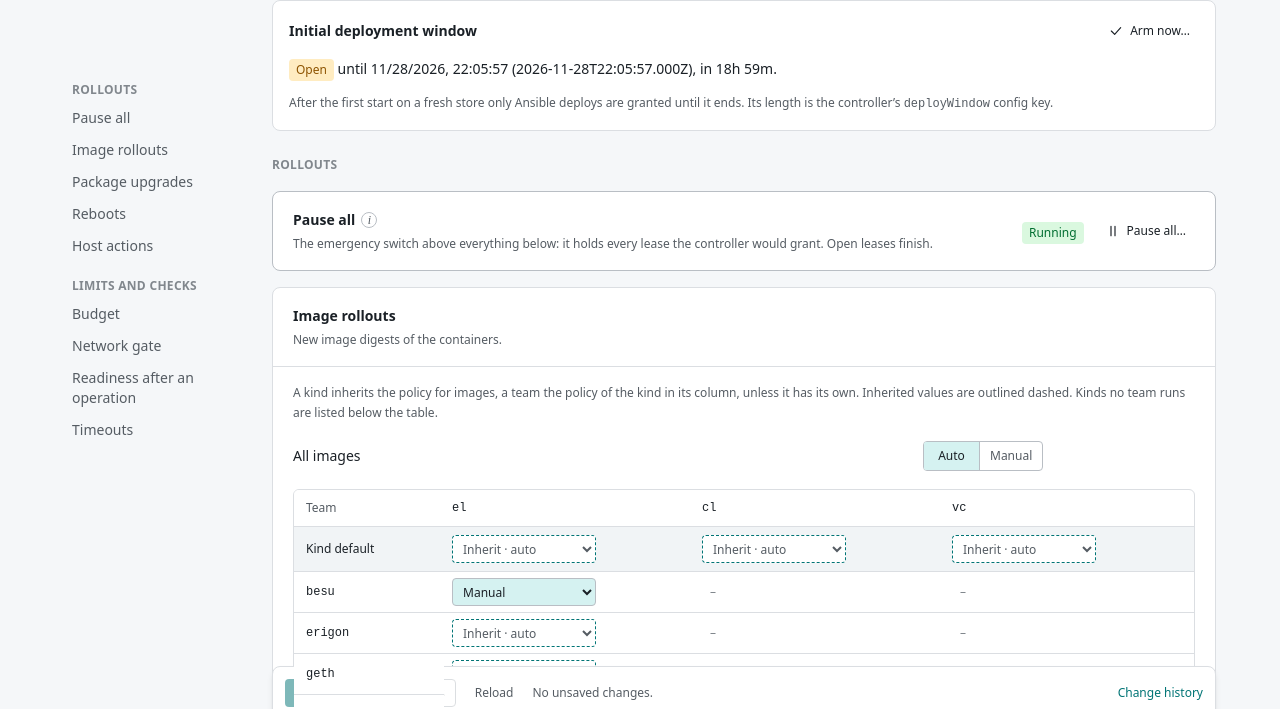
Scenario: SettingsTab › states the deployment window and arms it while it is open; its length is no setting
Expected: the element named "Deployment window state" shows "Open until", [289,59,777,81]
Click the button "Arm now…" at (1149, 31), box [1099,17,1199,45]
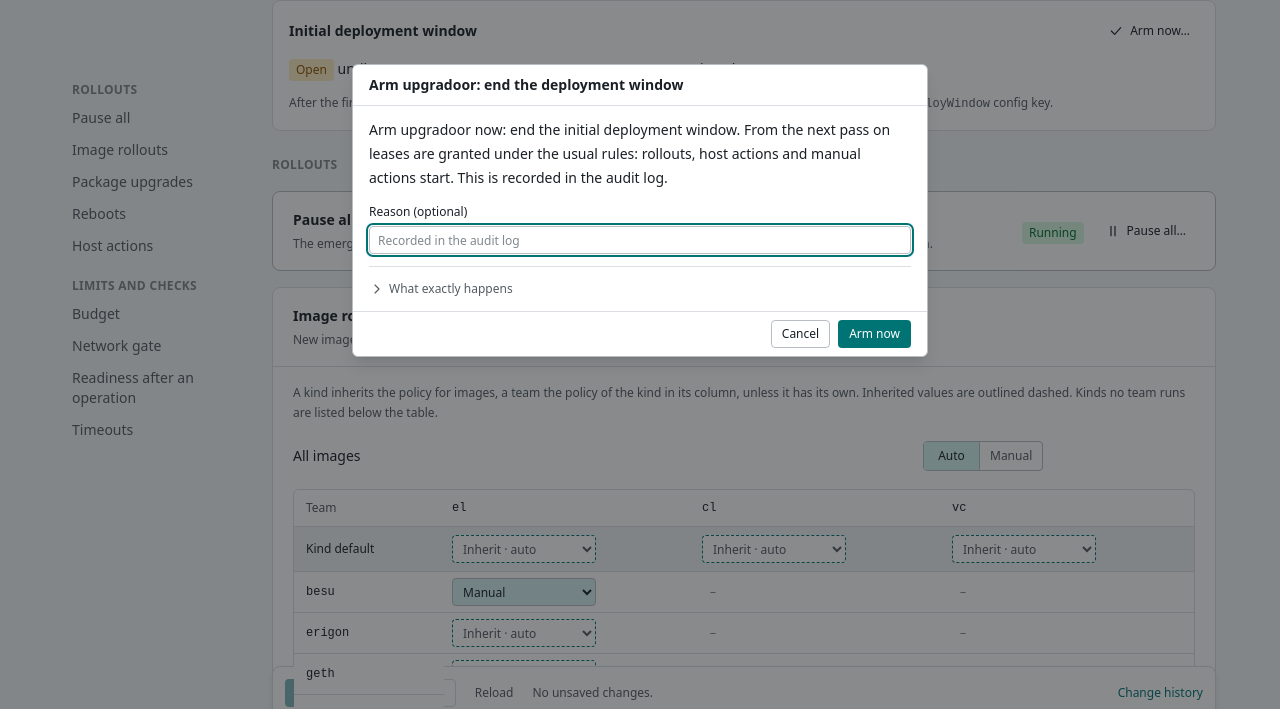
Click the button "Arm now" at (875, 334), box [838,320,911,348]
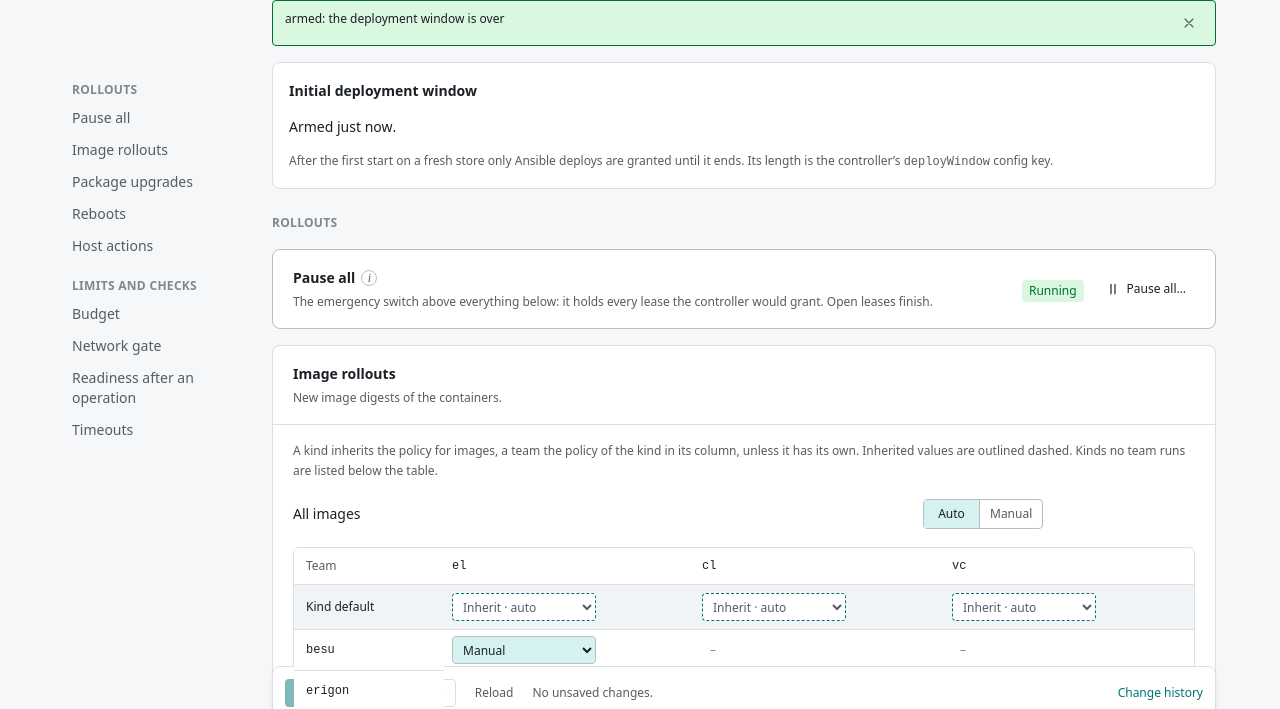
Now the element named "Deployment window state" shows "Armed", box [289,117,337,136]
Now the button "Arm now…" is gone
